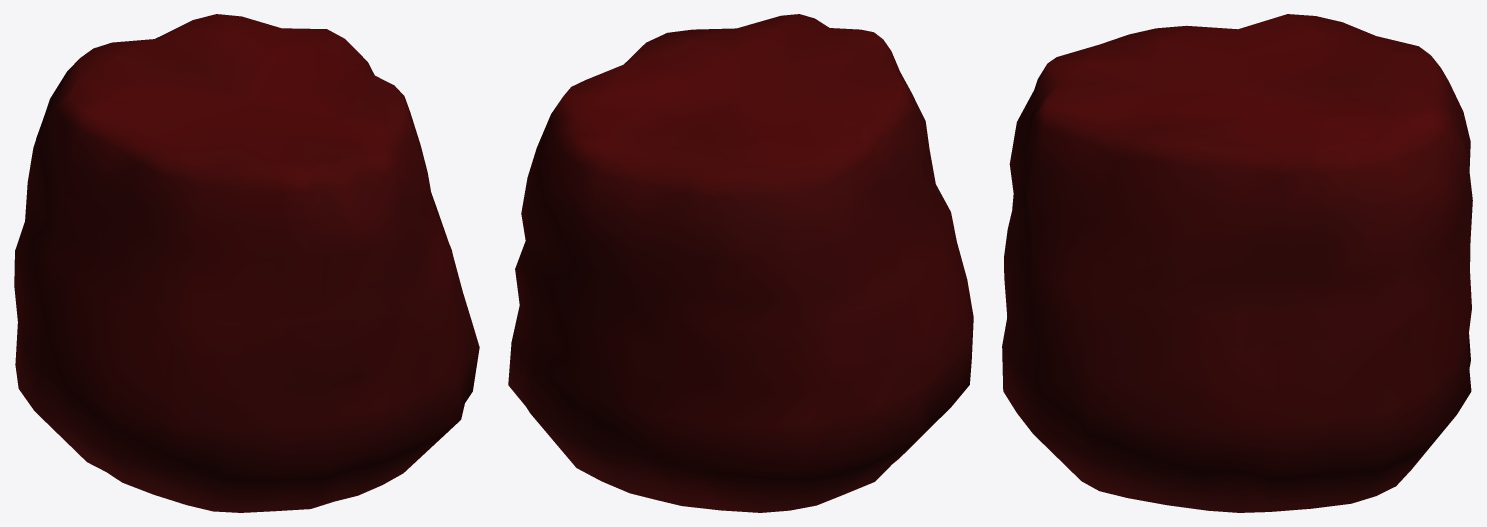
The model's file is geology-landforms-rockmesalarge_v1.fbx.
3 views of the same model, side by side, from view 1: azimuth 30°, elevation 25°; view 2: azimuth 150°, elevation 25°; view 3: azimuth 270°, elevation 25° (orthographic). The views are drawn at different scales.
Parts seen in each view (by area): view 1: RockMesaLarge_v1; view 2: RockMesaLarge_v1; view 3: RockMesaLarge_v1.
Boxes of the visible parts, left/top/right/bottom form: RockMesaLarge_v1: left=14, top=14, right=479, bottom=512; RockMesaLarge_v1: left=508, top=14, right=973, bottom=512; RockMesaLarge_v1: left=1002, top=14, right=1472, bottom=512.
Size of the model in its own units: 36.55 by 31.07 by 37.04.
